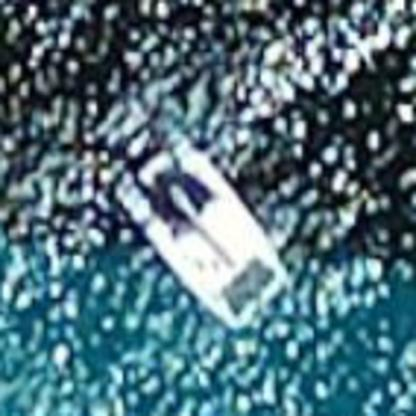ship: (96, 120, 296, 337)
